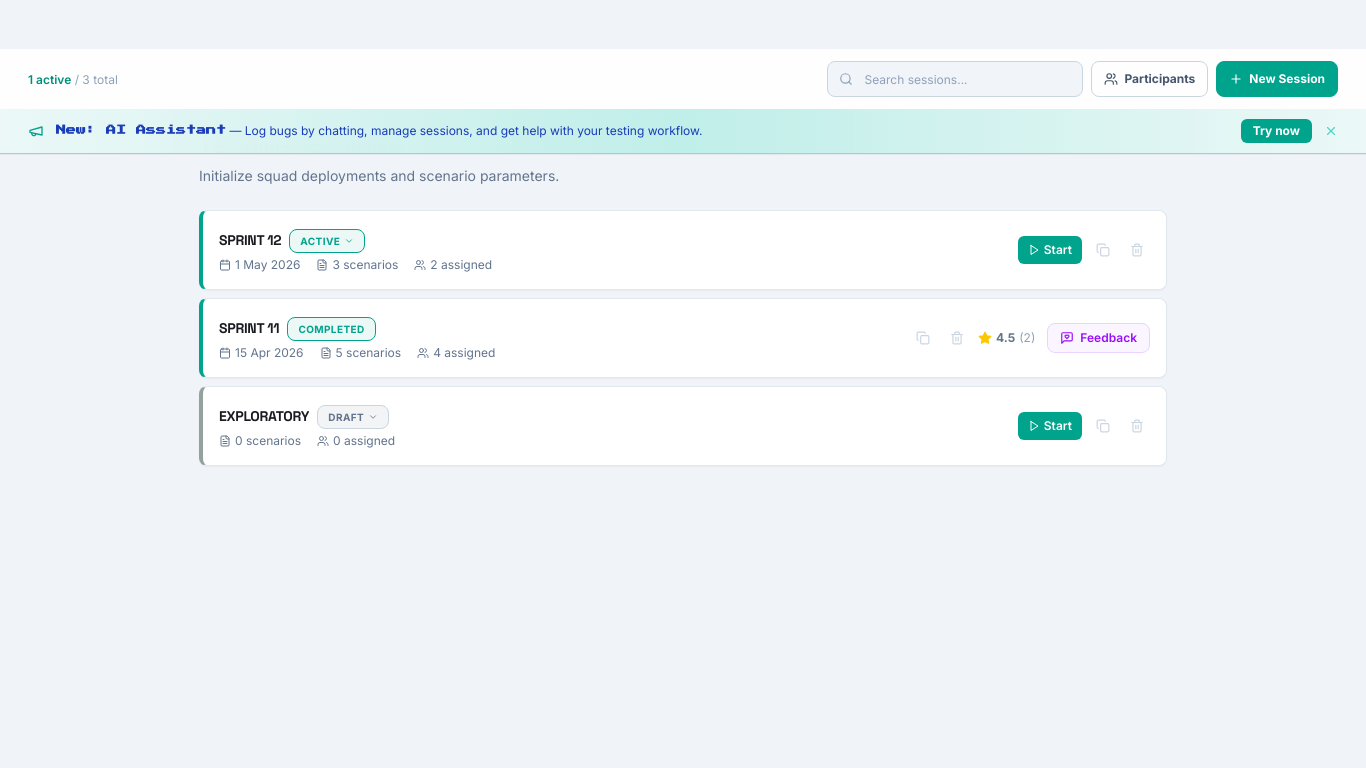
Test: SessionsListPage › New Session button opens creation form
This screenshot has width=1366, height=768.
Click the button "New Session" at (1277, 79), box [1216, 61, 1338, 97]
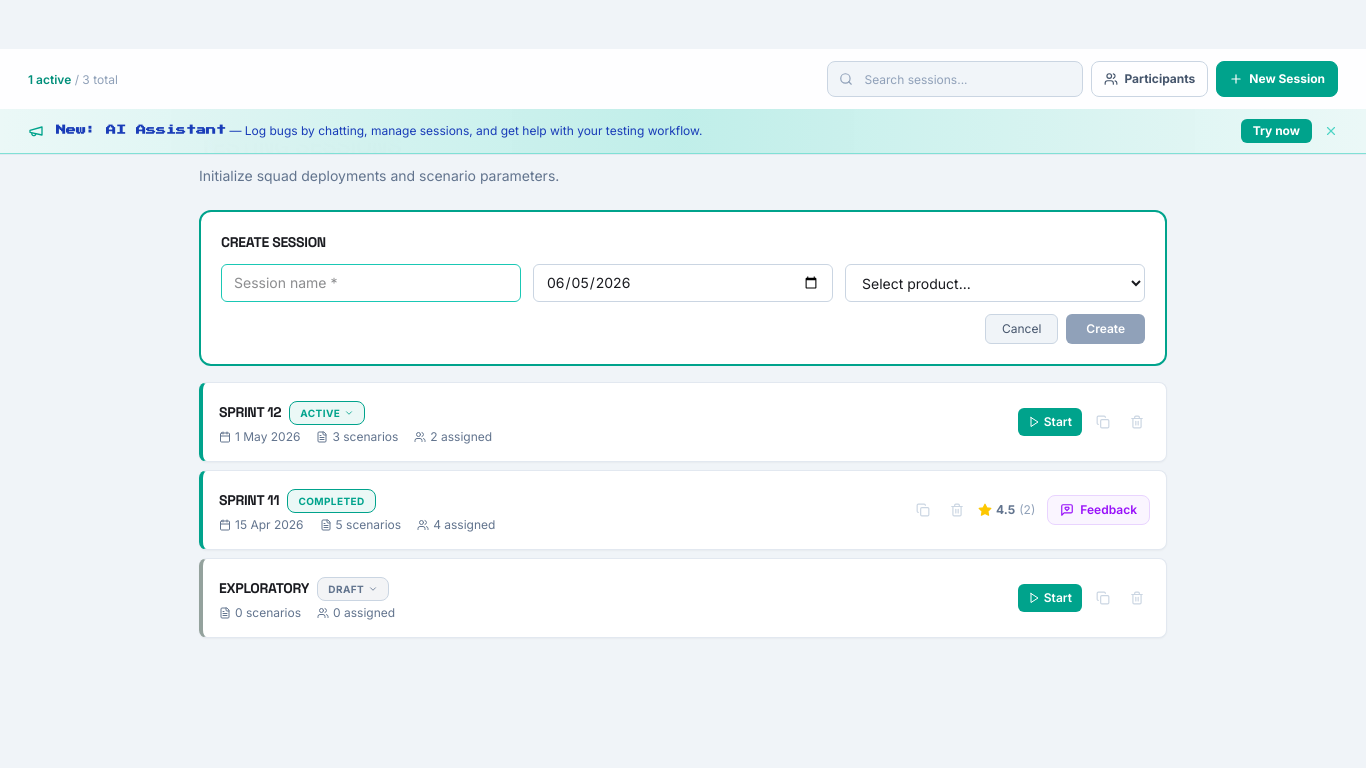
Now the field with placeholder "Session name *" is shown, box [221, 264, 521, 302]
